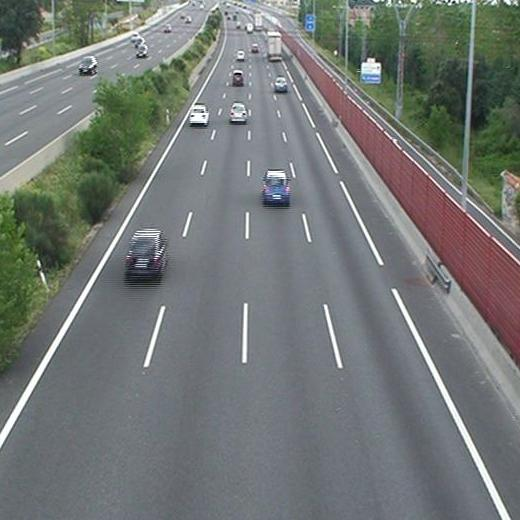car: (126, 233, 165, 278), (263, 172, 290, 203), (229, 103, 247, 121), (190, 106, 208, 124), (274, 77, 287, 92), (232, 71, 243, 86), (237, 50, 244, 61), (251, 44, 258, 51)
truck: (268, 32, 281, 61)
